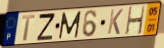6: (81, 9, 99, 39)
H: (124, 5, 146, 36)
K: (106, 8, 125, 36)
M: (58, 10, 82, 41)
T: (21, 14, 37, 42)
Z: (36, 13, 57, 42)
